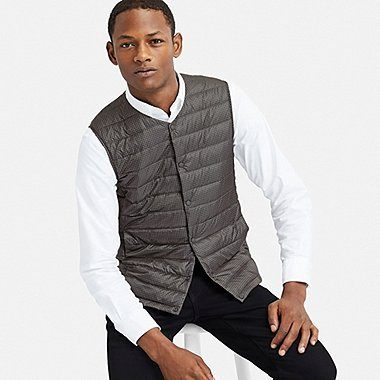NOTSAFE: (110, 1, 237, 294)
